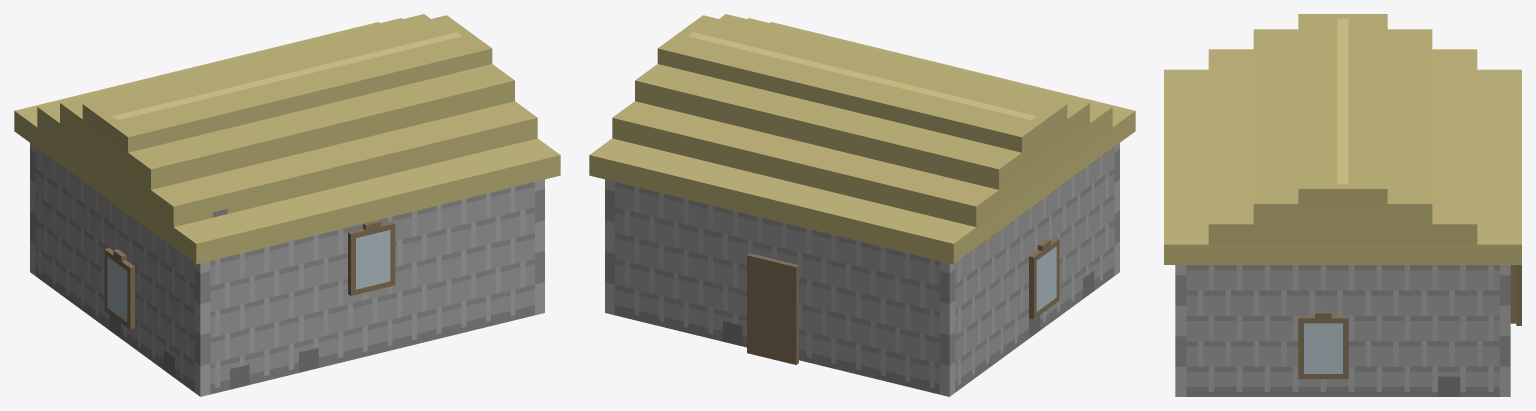
Rendered from casa_humilde_01.glb.
3 renders of one model, left to right at view 1: azimuth 30°, elevation 25°; view 2: azimuth 150°, elevation 25°; view 3: azimuth 270°, elevation 25°, orthographic.
Parts seen in each view (by area): view 1: casa_humilde_01; view 2: casa_humilde_01; view 3: casa_humilde_01.
Part boxes in pixels (left/top/right/bottom): casa_humilde_01: left=14, top=14, right=560, bottom=396; casa_humilde_01: left=589, top=14, right=1135, bottom=396; casa_humilde_01: left=1164, top=14, right=1521, bottom=396.
Bounding box in the file's own units: 7.4 × 4.2 × 6.4.
